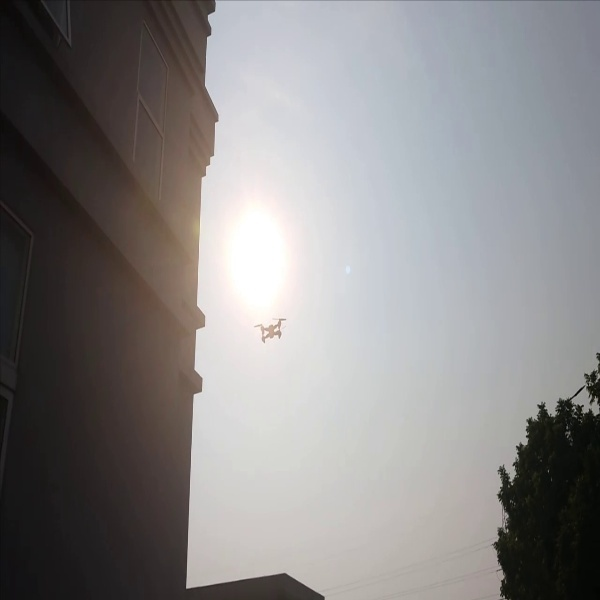drone: (245, 310, 292, 349)
